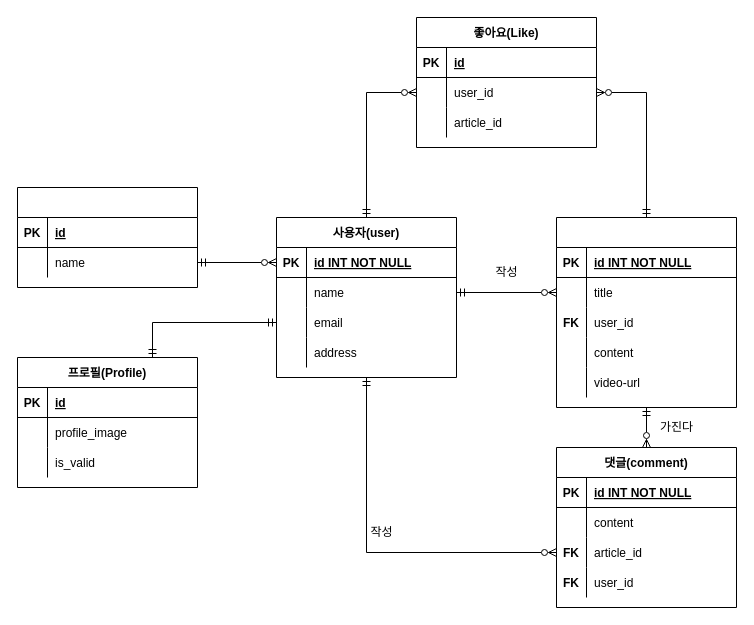
Some shapes in this 754 by 625 pixel diagram are drawn without their labels. Here are the shapes that lost their labels. From the top down, the box of each, then its label:
(16, 186, 198, 288): 역할(Role)
(556, 216, 736, 408): 글(article)
